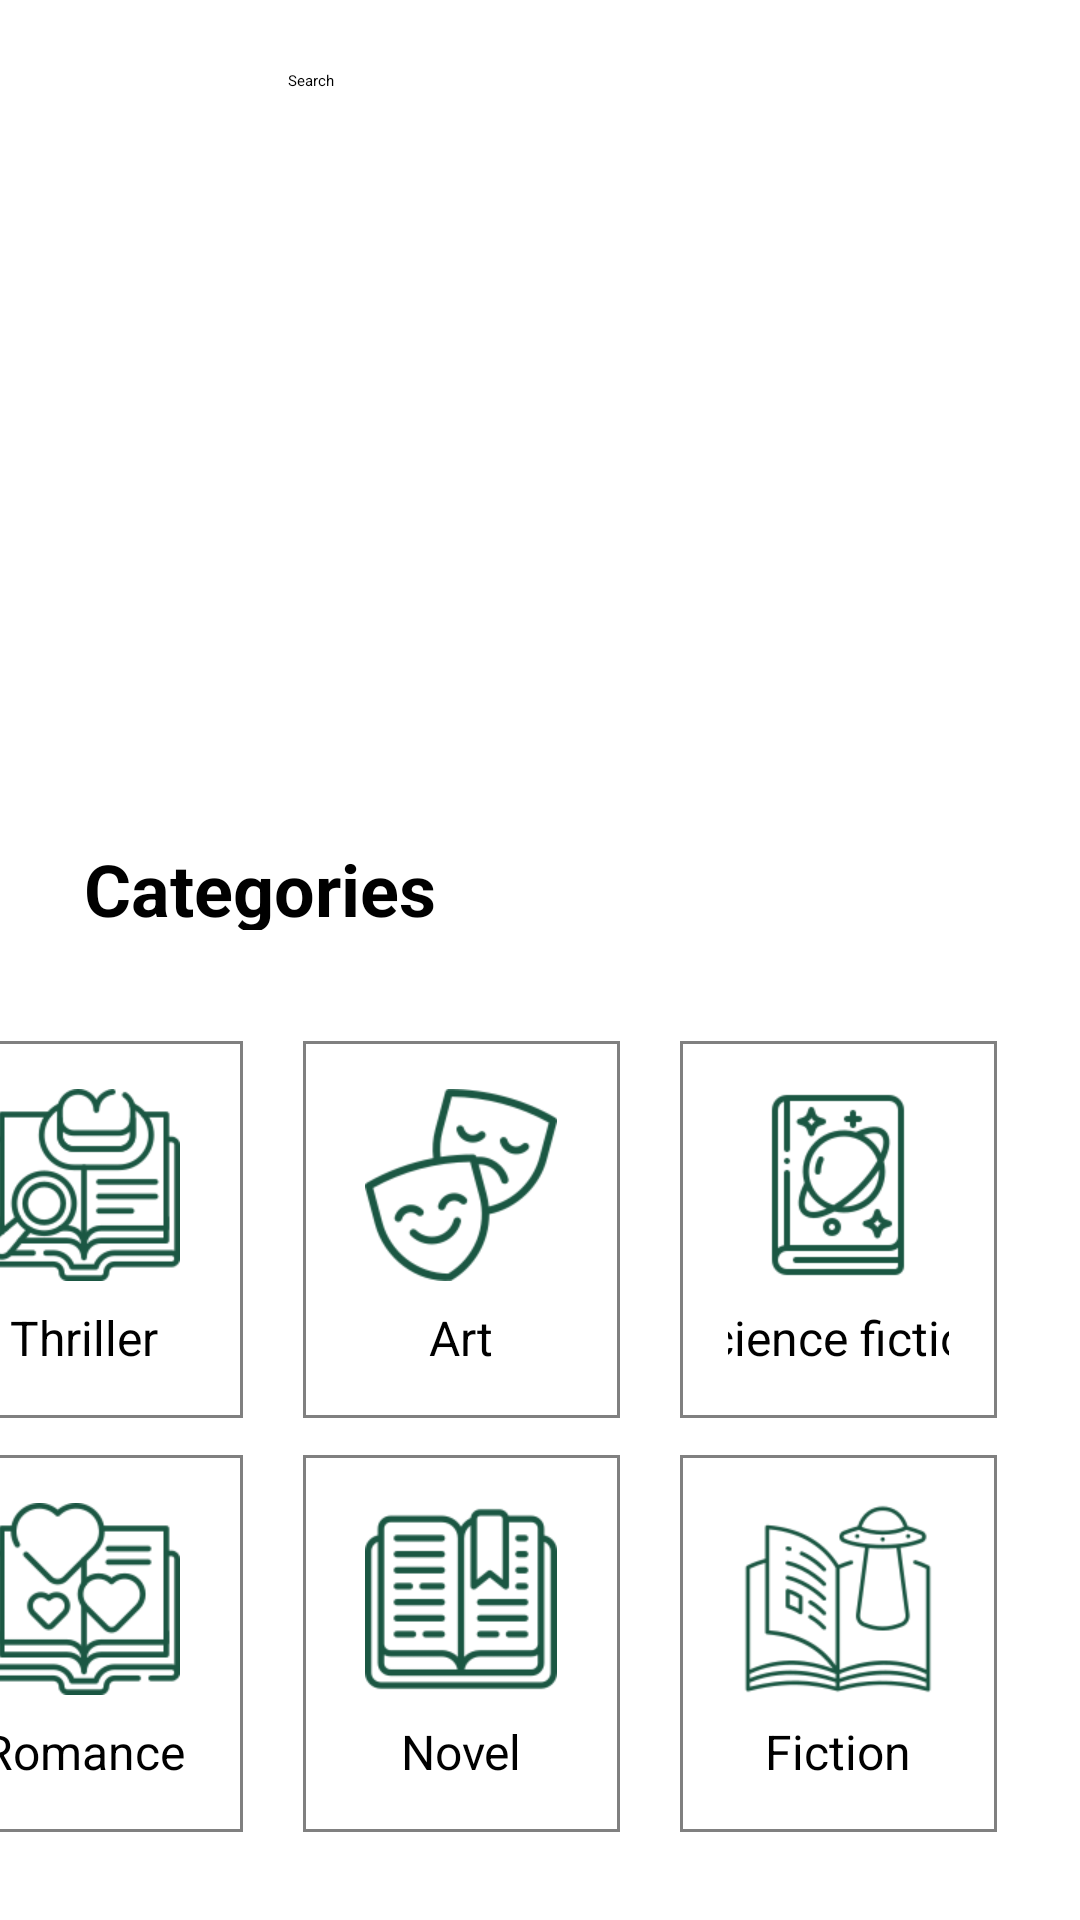

Icon bounding boxes for this 1080 x 1920 phone screenshot, format (x1, y1, x2, y2):
book: (365, 1508, 557, 1690)
detective: (0, 1089, 180, 1281)
love: (0, 1503, 180, 1695)
performing: (365, 1089, 557, 1281)
